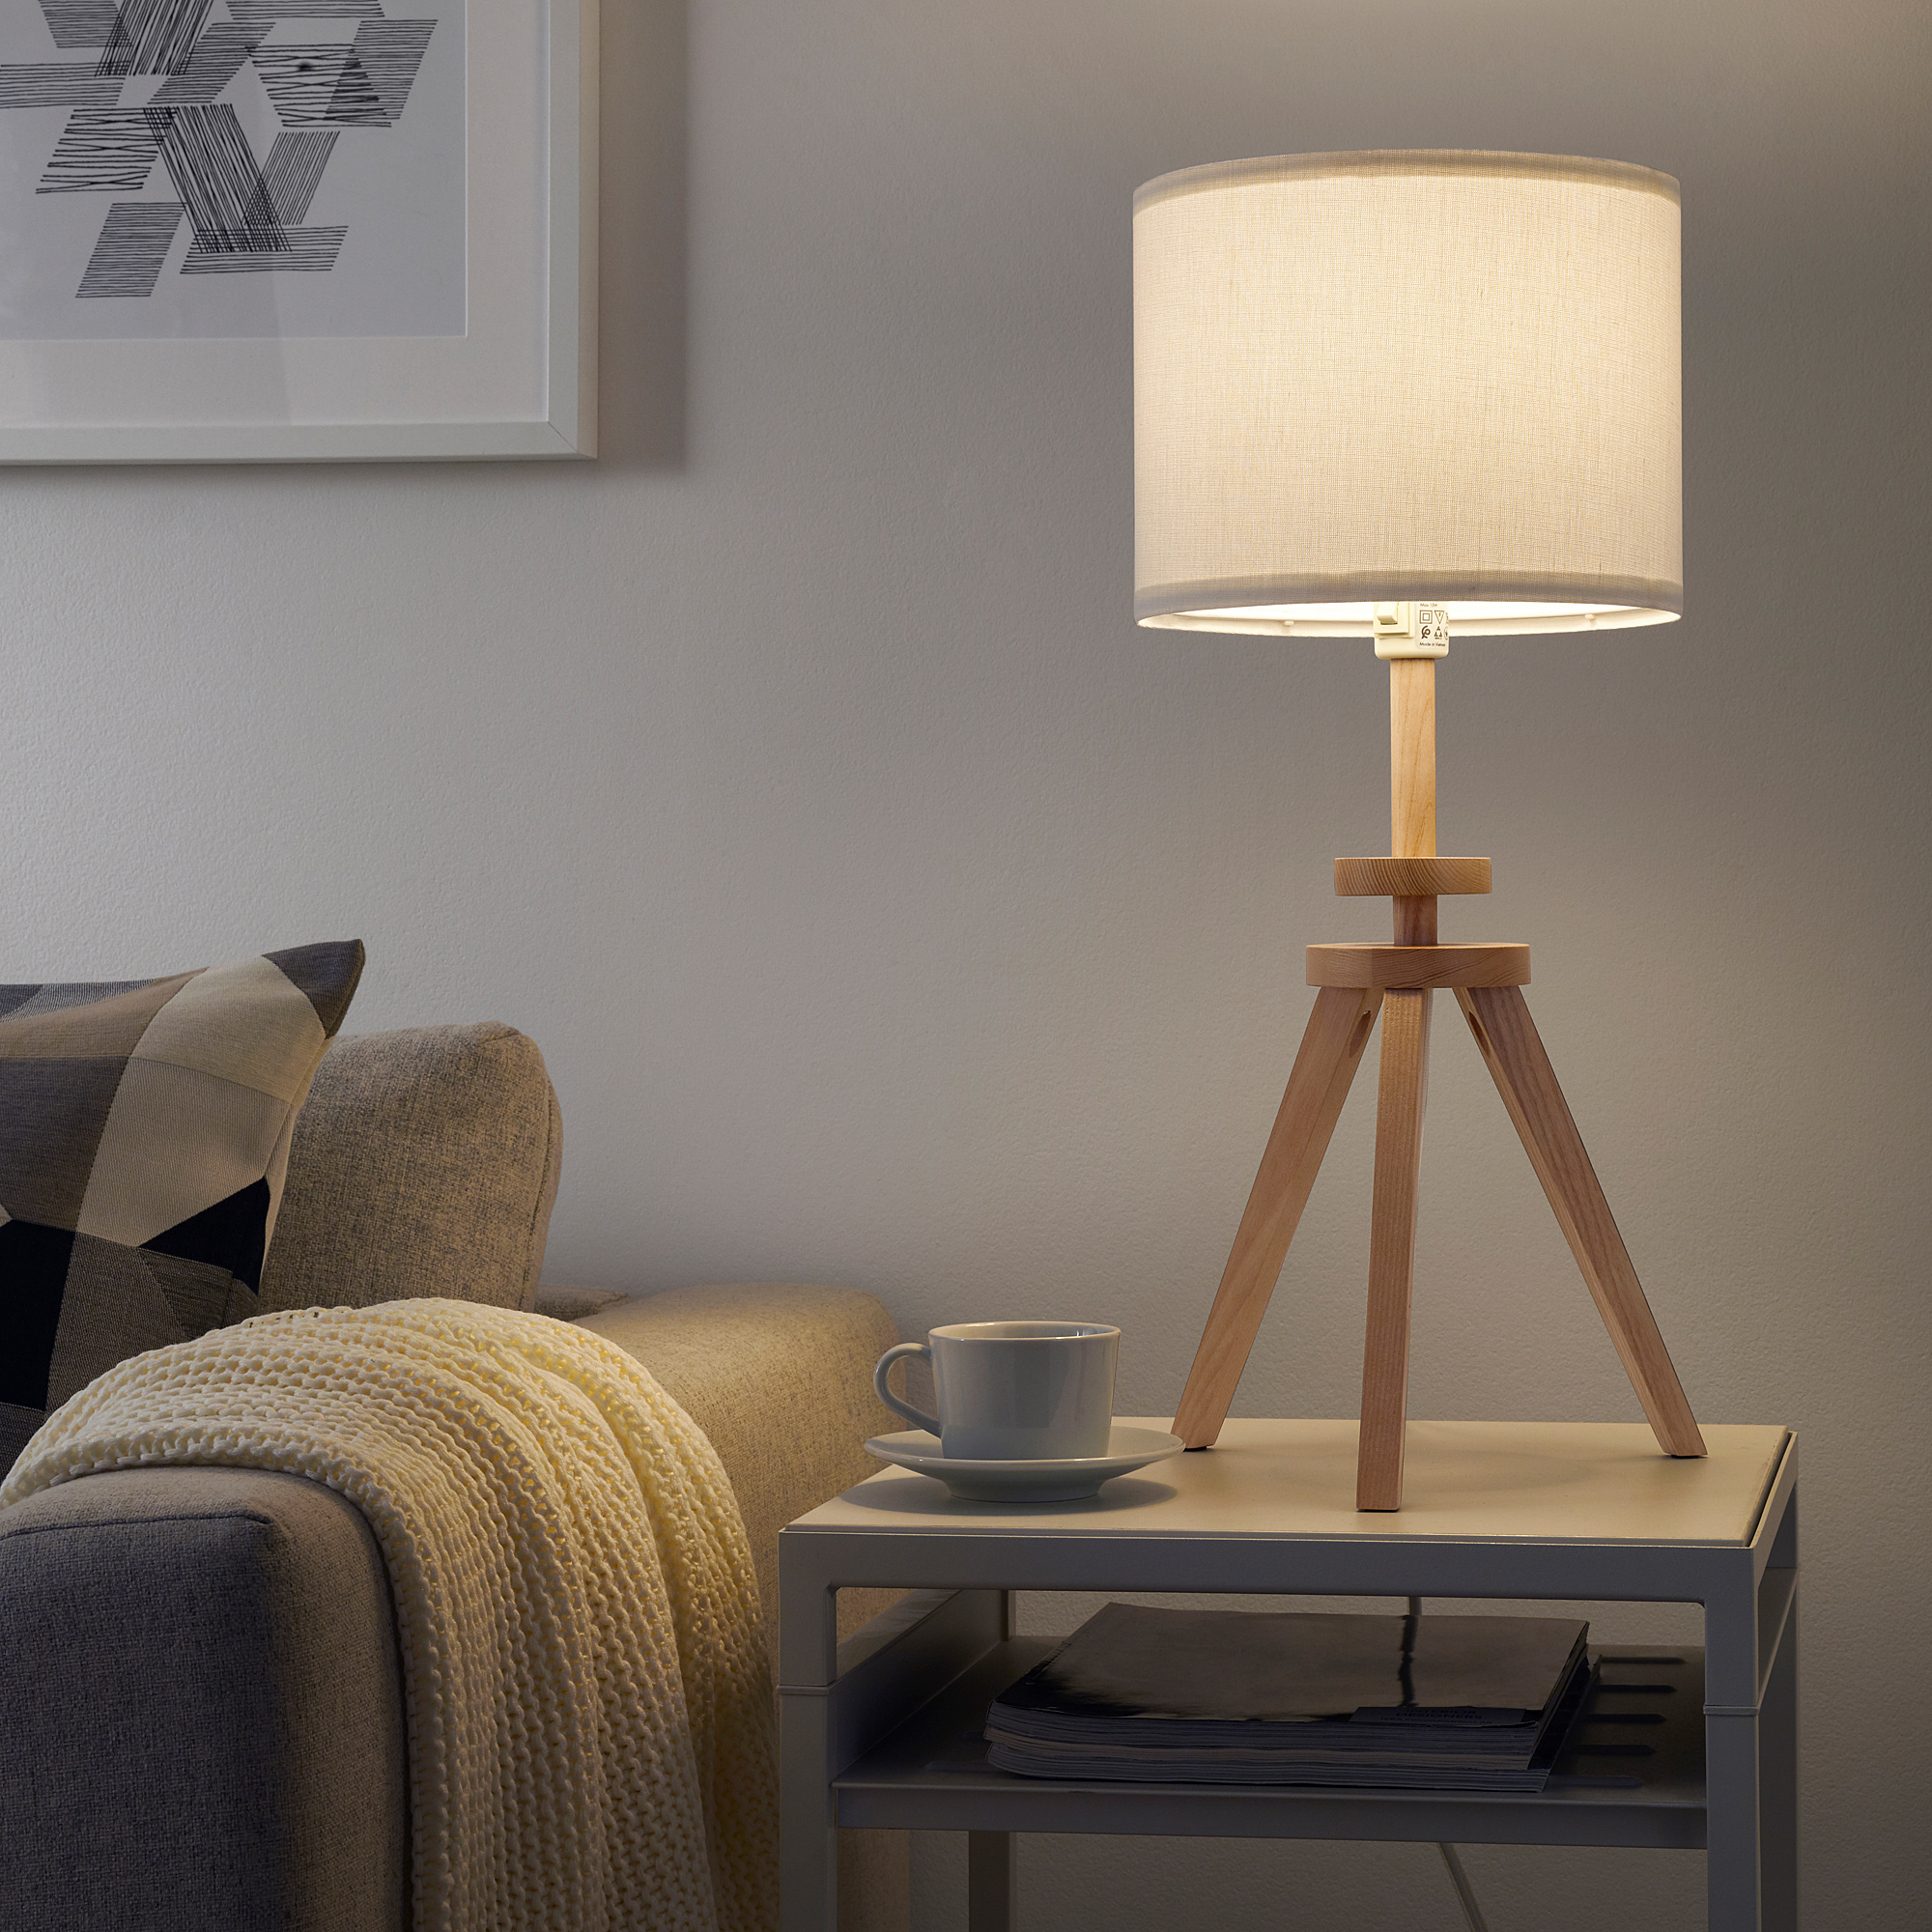gelas: (865, 1315, 1136, 1463)
lampu: (1113, 156, 1702, 1507)
